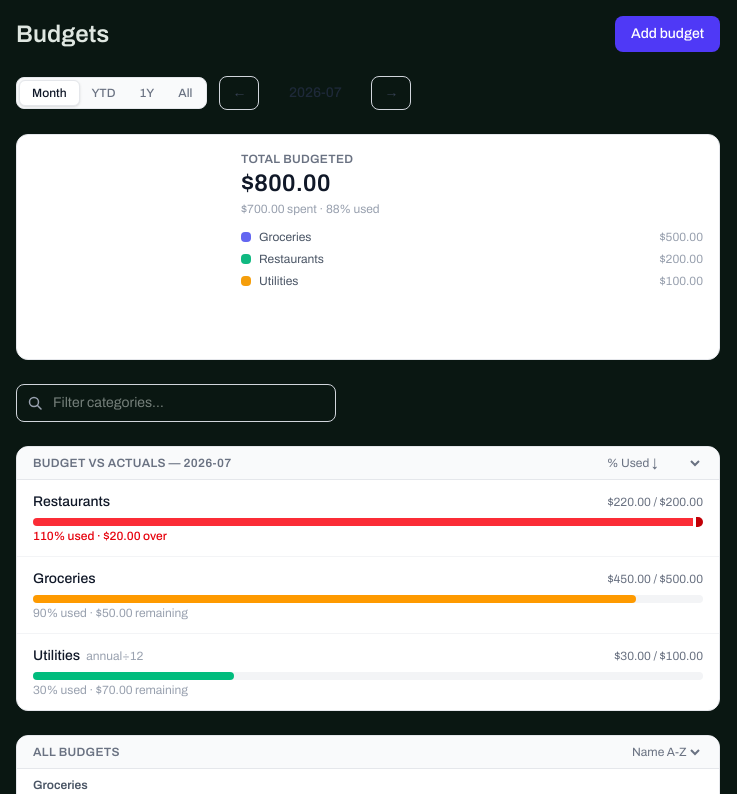
filter bar › shows zero-results state when filter matches nothing
Type "zzzzz" into the field with placeholder "Filter categories…".
click(176, 403); type("zzzzz")  # box [16,384,336,422]
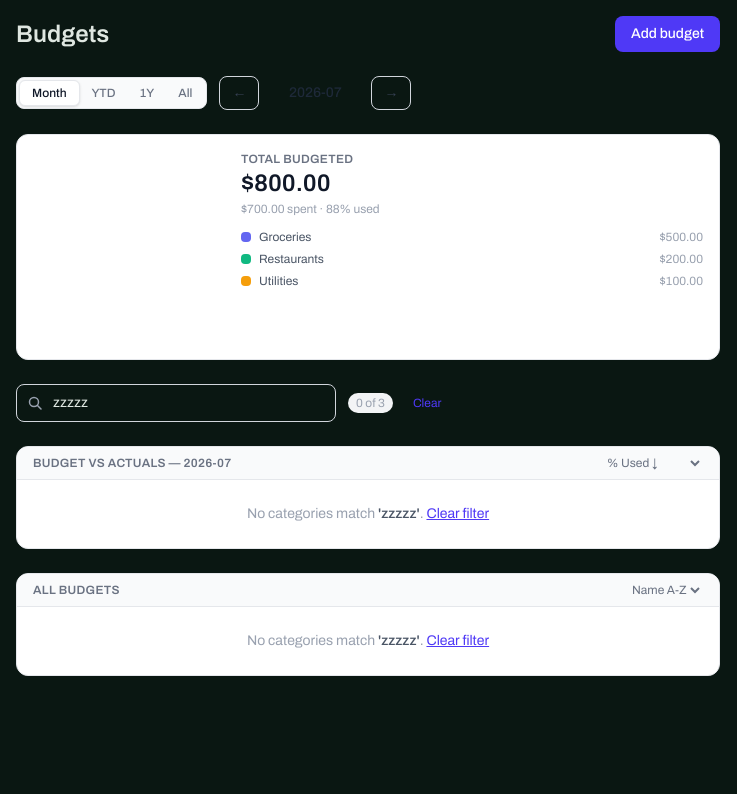
expect the text "No categories match 'zzzzz'. Clear filter" below "Budget vs Actuals —" is shown: met, box [247,506,375,521]
